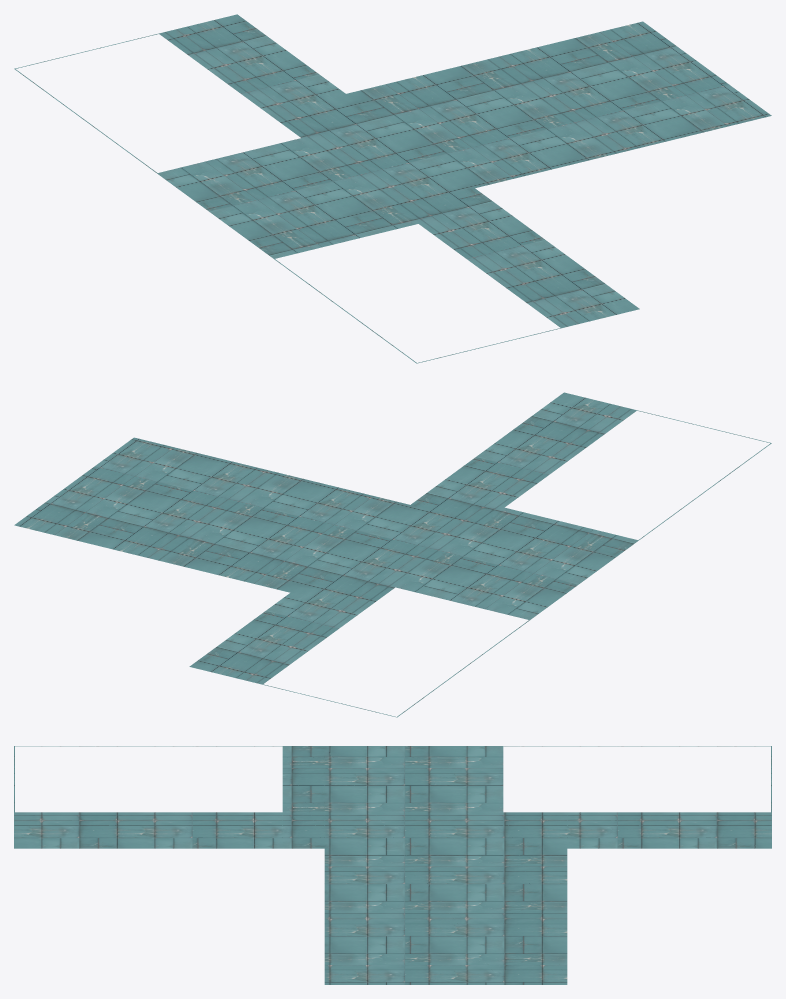
Rendered from brutalist-building-1-cbake.floor-3.hall.glb.
3 views of the same model, one above another, from view 1: azimuth 30°, elevation 25°; view 2: azimuth 150°, elevation 25°; view 3: azimuth 270°, elevation 25° (orthographic). The views are drawn at different scales.
Visible parts, largest first — view 1: floor; view 2: floor; view 3: floor.
Part boxes in pixels (<box>): floor: <box>14,14,771,363</box>; floor: <box>14,392,771,717</box>; floor: <box>14,746,771,984</box>.
Size of the model in its own units: 20.73 by 0 by 27.79.
1 material, 1 textured.
